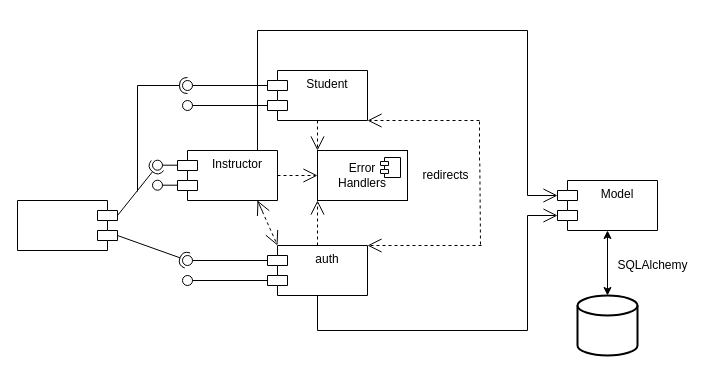
Some shapes in this 715 by 374 pixel diagram are drawn without their labels. Each missing label, with the centre of its shape:
Client: (67,225)
Postgre SQL DB: (607,325)
